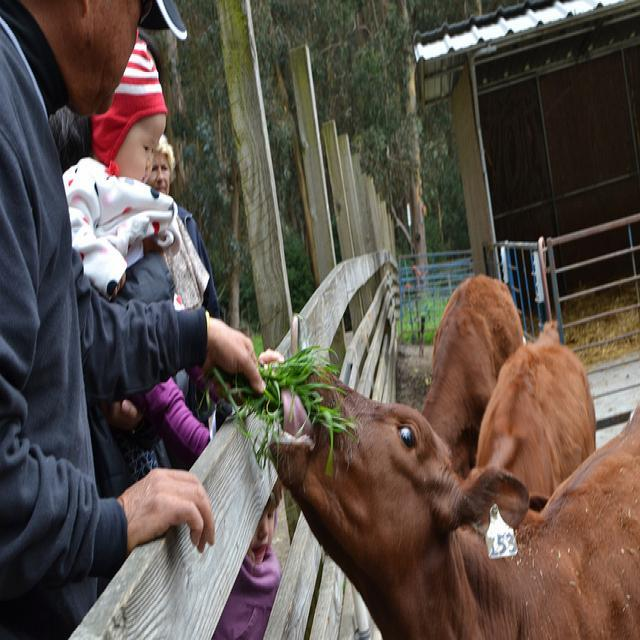cow: (270, 355, 639, 631), (471, 318, 596, 508), (422, 271, 525, 474)
